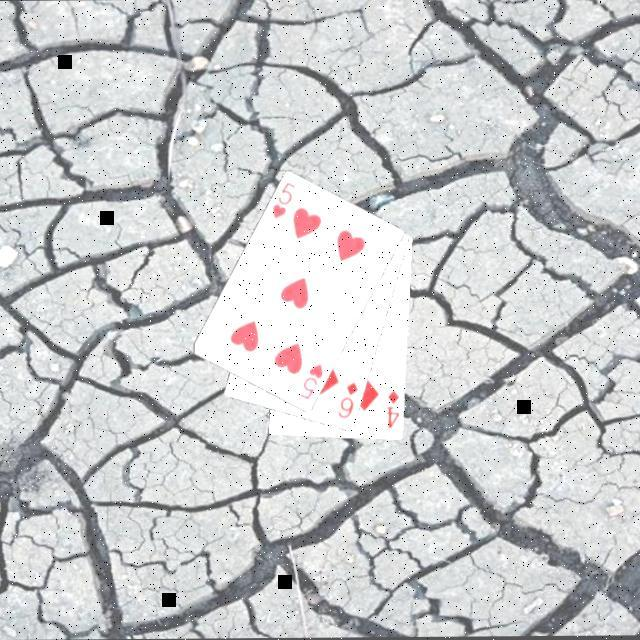4D: (383, 388, 401, 432)
5H: (268, 180, 297, 222), (296, 362, 324, 404)
6D: (334, 381, 360, 423)
